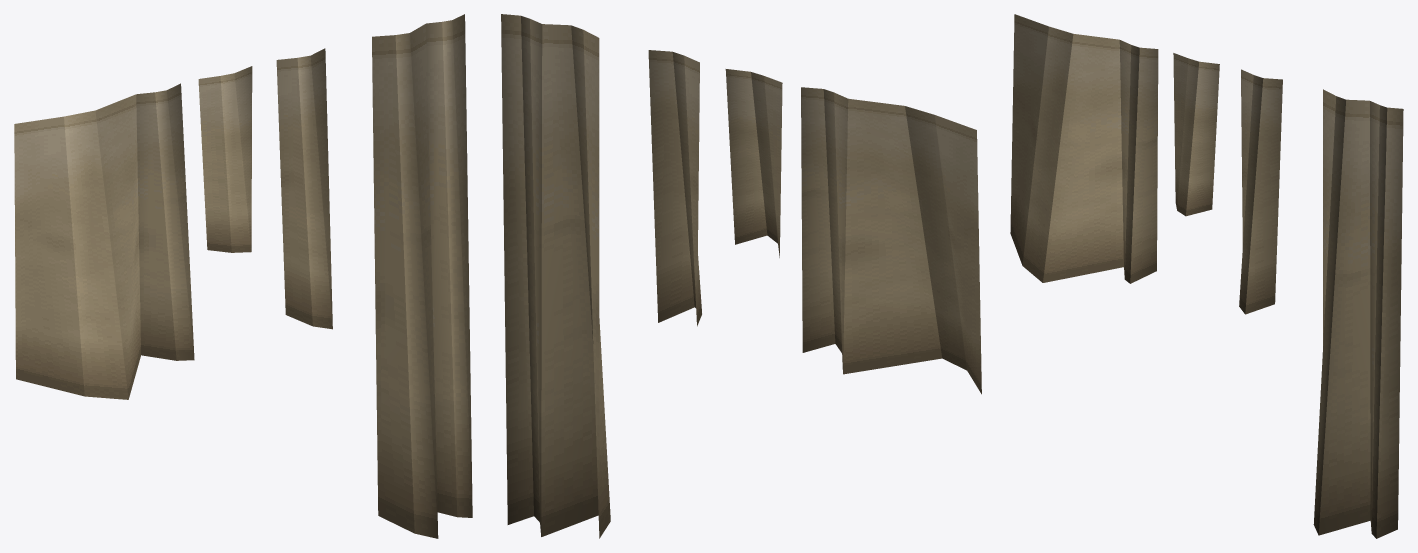
File: prop_curtain-torn-2.glb
3 views of the same model, side by side, from view 1: azimuth 30°, elevation 25°; view 2: azimuth 150°, elevation 25°; view 3: azimuth 330°, elevation 25° (orthographic). The views are drawn at different scales.
Parts seen in each view (by area): view 1: prop_curtain-torn-2; view 2: prop_curtain-torn-2; view 3: prop_curtain-torn-2.
Part boxes in pixels (bbox=[...]): prop_curtain-torn-2: bbox=[14, 14, 472, 538]; prop_curtain-torn-2: bbox=[501, 14, 981, 538]; prop_curtain-torn-2: bbox=[1010, 14, 1403, 538].
Bounding box in the file's own units: 1.73 × 1.78 × 0.2706.
Materials: 1 (1 with a texture image).
